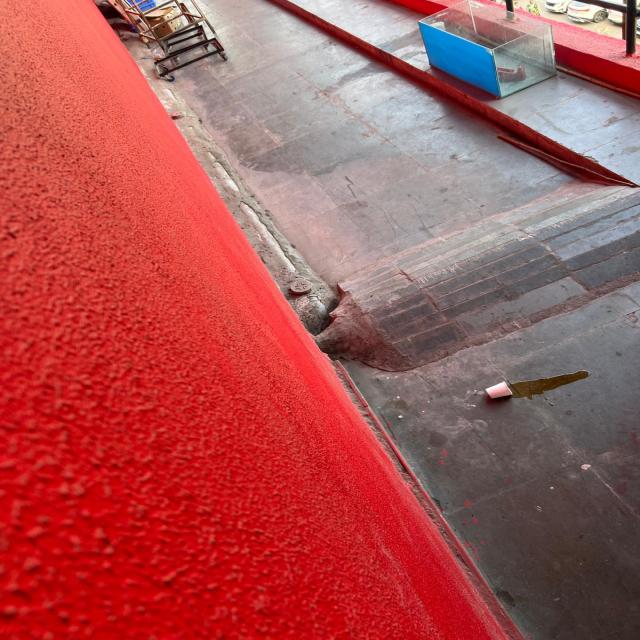cup: (483, 382, 512, 398)
spill: (509, 376, 585, 396)
